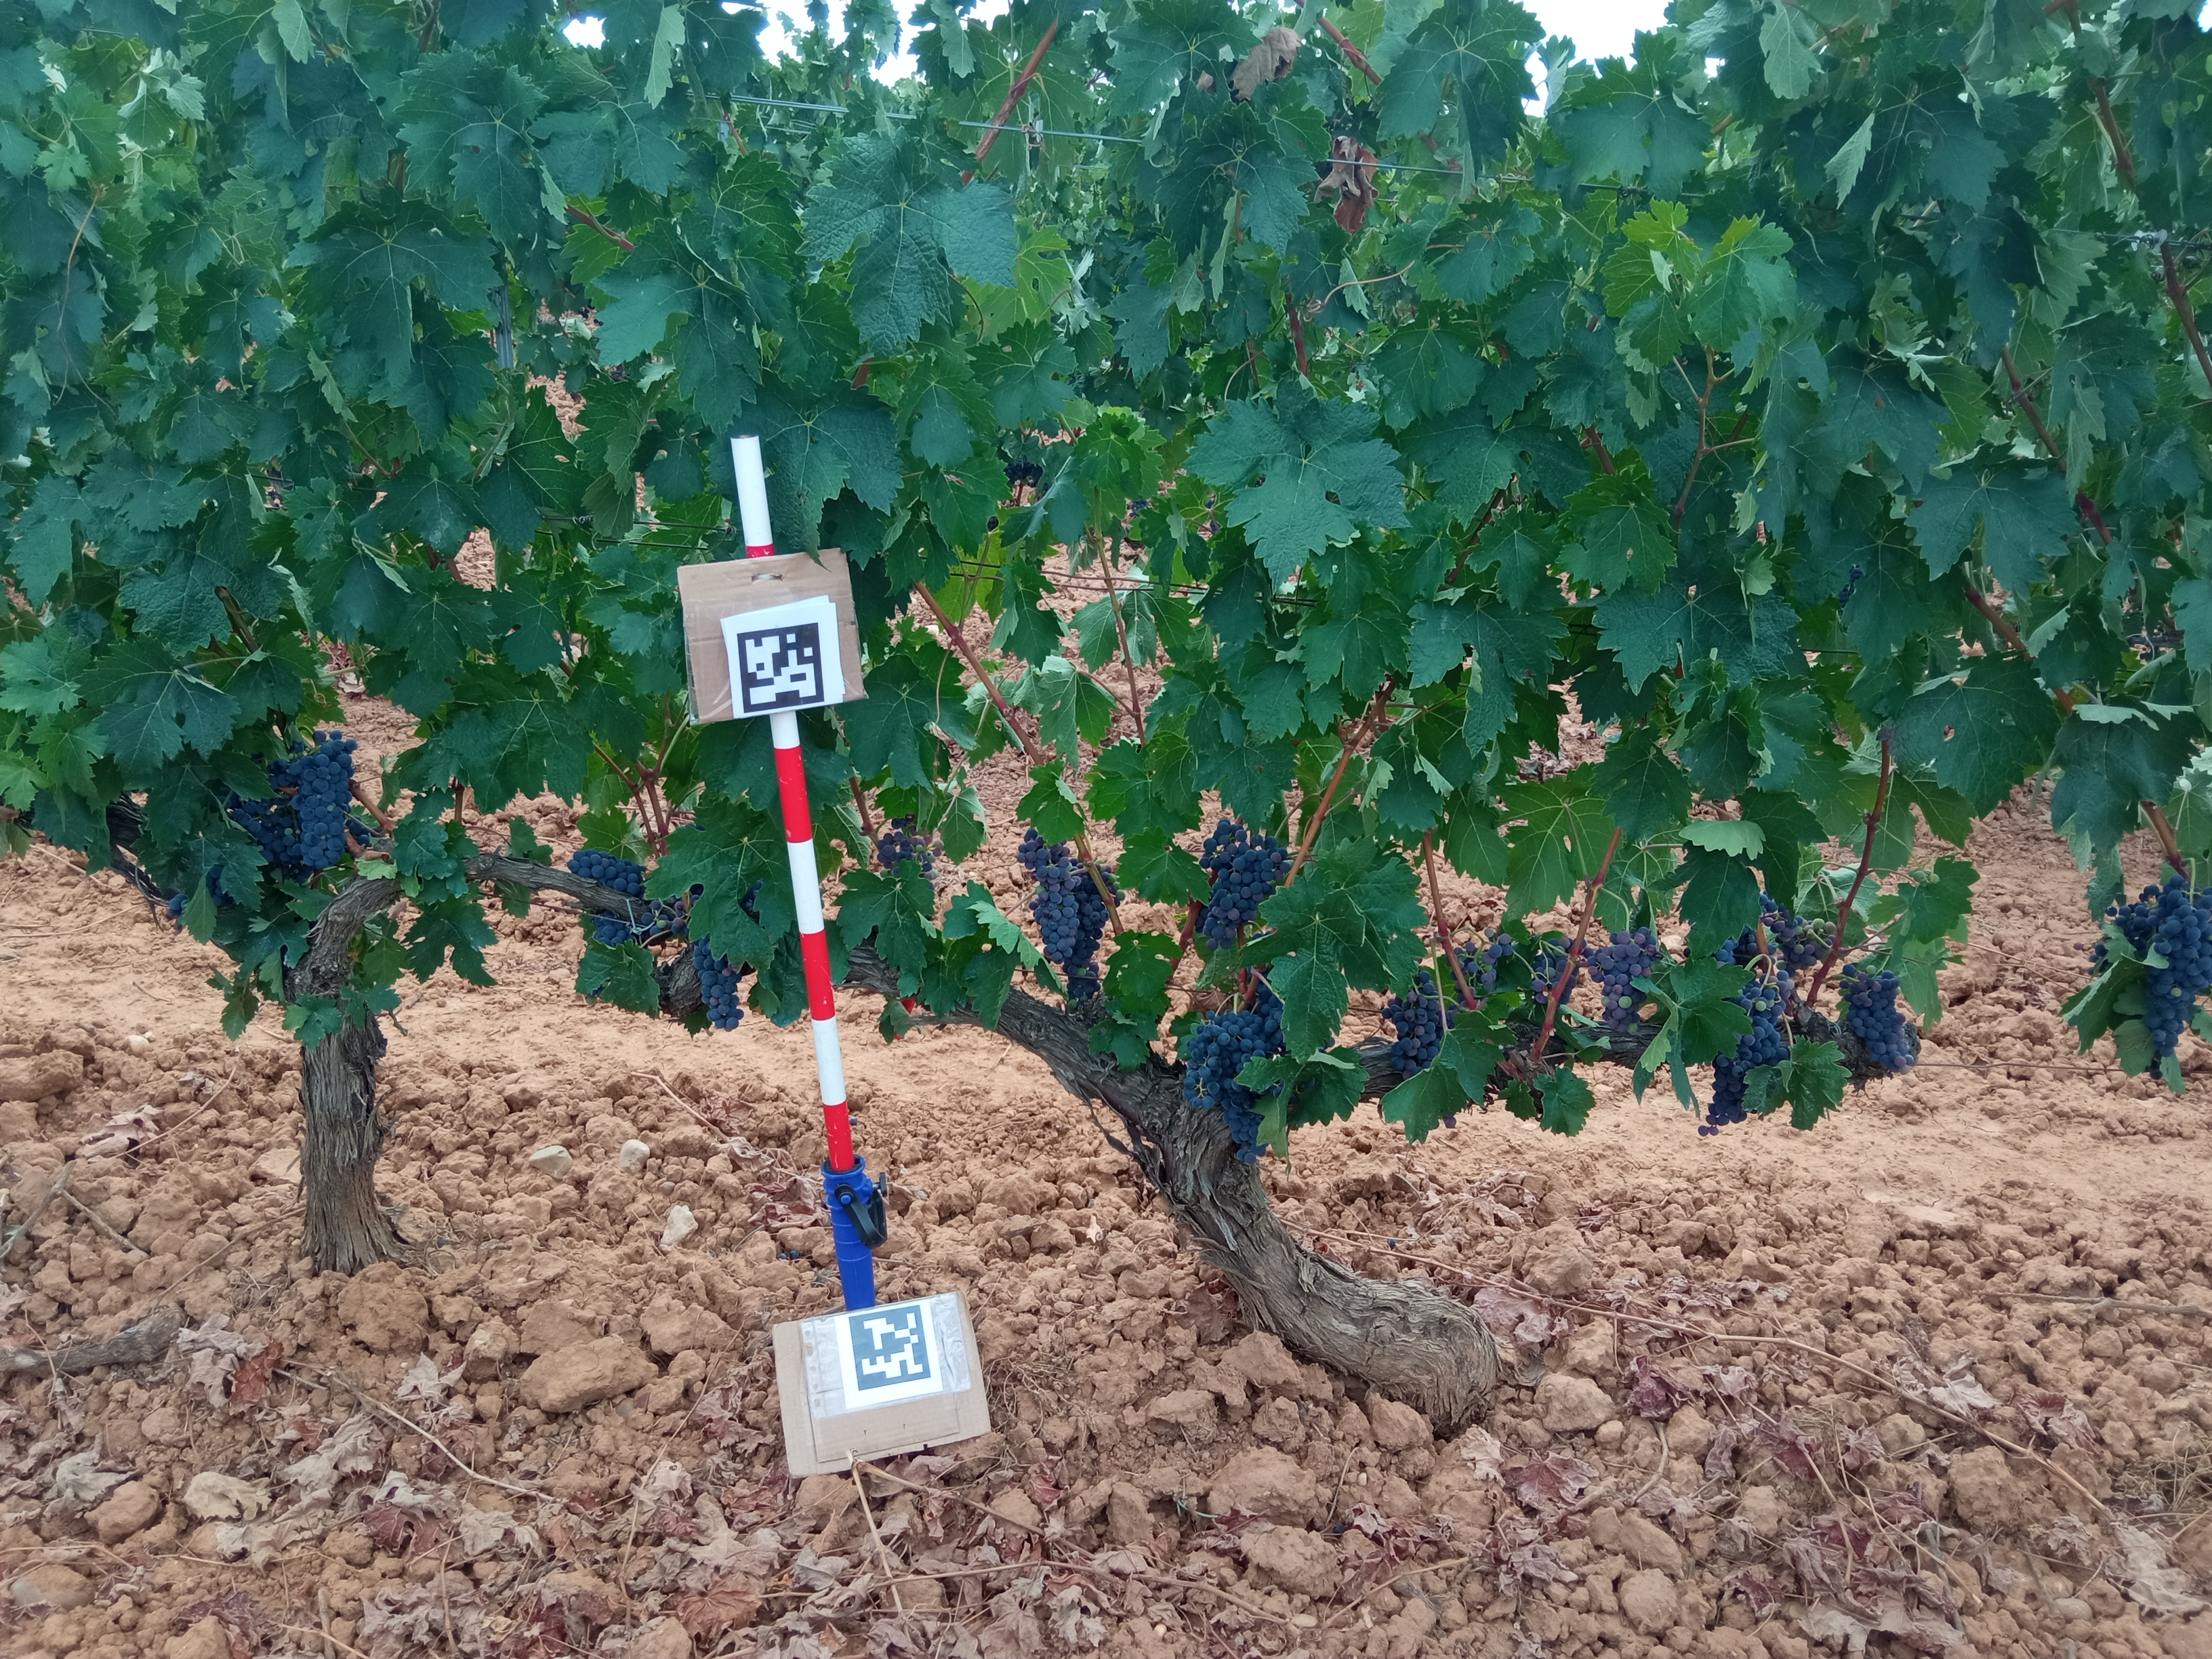grapes: (1200, 814, 1289, 955), (2155, 866, 2212, 1049), (291, 728, 364, 871), (1839, 964, 1921, 1077), (1014, 823, 1078, 960), (1581, 927, 1660, 1037), (1183, 1002, 1240, 1110), (1757, 890, 1839, 962), (219, 793, 303, 863), (1740, 967, 1797, 1066), (1378, 986, 1442, 1073), (1068, 877, 1109, 1004), (876, 812, 948, 882), (698, 936, 751, 1030), (568, 842, 651, 896), (1453, 920, 1515, 988), (1238, 978, 1289, 1058), (1698, 1056, 1745, 1140), (1223, 1110, 1273, 1168), (2116, 882, 2167, 939), (1090, 849, 1127, 911), (643, 896, 693, 941), (1536, 934, 1571, 979), (590, 908, 631, 946), (738, 873, 770, 922), (1716, 932, 1756, 964), (1562, 965, 1592, 1007), (207, 863, 232, 910), (1527, 971, 1552, 1006), (158, 887, 190, 913), (1414, 962, 1439, 993), (2094, 936, 2109, 969), (2151, 1061, 2168, 1082)
